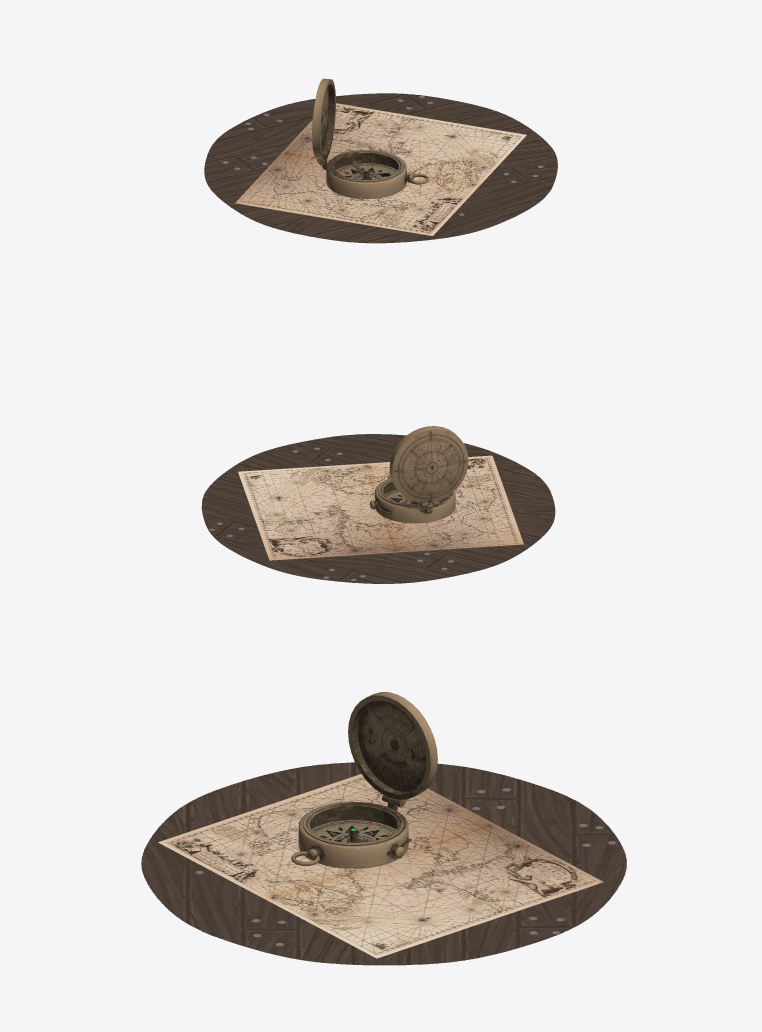
File: bussola.glb
The picture shows the model from 3 angles, top to bottom: view 1: azimuth 30°, elevation 25°; view 2: azimuth 150°, elevation 25°; view 3: azimuth 270°, elevation 25°; orthographic projection. The views are drawn at different scales.
Visible parts, largest first — view 1: Object_2, Object_4, Object_3; view 2: Object_2, Object_4, Object_3; view 3: Object_2, Object_4, Object_3.
Part boxes in pixels (<box>): Object_2: <box>235,103,526,235</box>; Object_4: <box>204,93,557,243</box>; Object_3: <box>312,78,429,198</box>; Object_2: <box>238,455,523,560</box>; Object_4: <box>201,434,555,583</box>; Object_3: <box>369,426,468,523</box>; Object_2: <box>158,774,603,958</box>; Object_4: <box>141,762,626,965</box>; Object_3: <box>291,692,437,868</box>.
Bounding box in the file's own units: 13.31 × 2.64 × 13.31.
3 materials, 3 textured.
